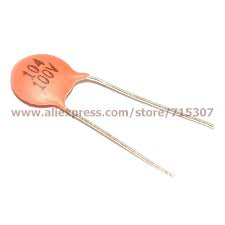ceramic capacitor: (4, 36, 111, 134)
